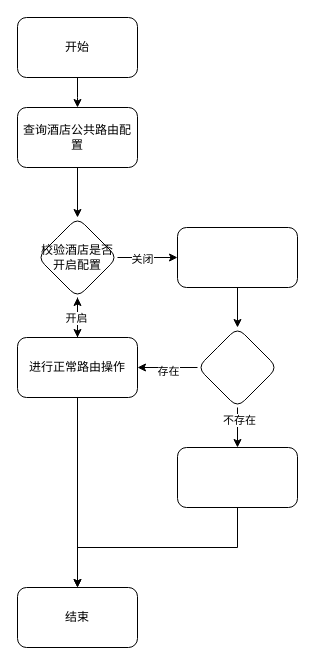
Image size: 315x665. Some labels were removed from this diagram. The centre of each missing label's shape, as x and y in pixels:
"不进行店直达路由" goes at pixel 237 477.
"是否存在" goes at pixel 237 367.
"查询酒店是否配置过自有路由 条件：酒店Id，商户号不是店直达" goes at pixel 237 257.
